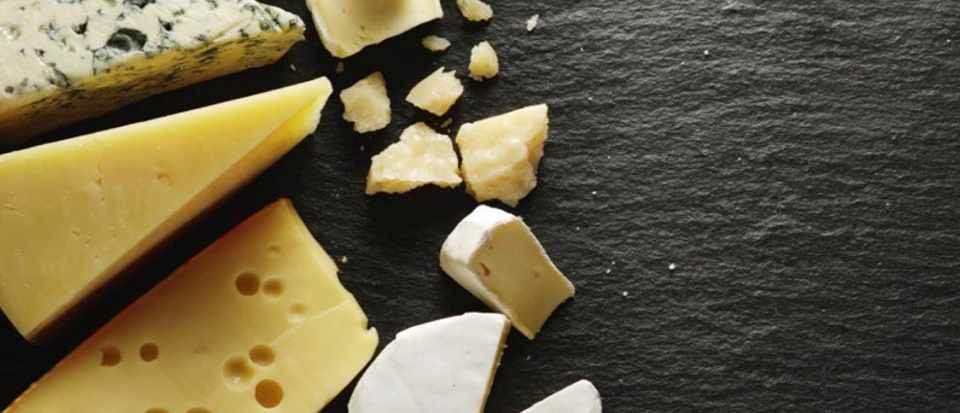cheese: (1, 196, 386, 413), (1, 59, 345, 297), (1, 1, 307, 107), (443, 194, 586, 336), (447, 83, 579, 209), (355, 119, 463, 202), (402, 53, 466, 124), (333, 74, 399, 139), (513, 372, 613, 413), (463, 36, 511, 77), (459, 1, 514, 24)
